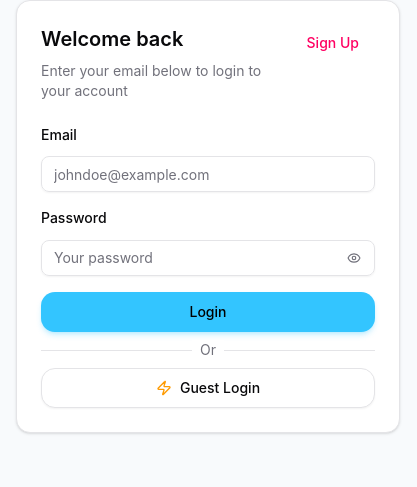
Test: LoginCard › shows validation error when auth returns an error
Type "test@example.com" into the field labelled "Email".
click(208, 174); type("test@example.com")  # box top-left (41, 156), bottom-right (375, 192)
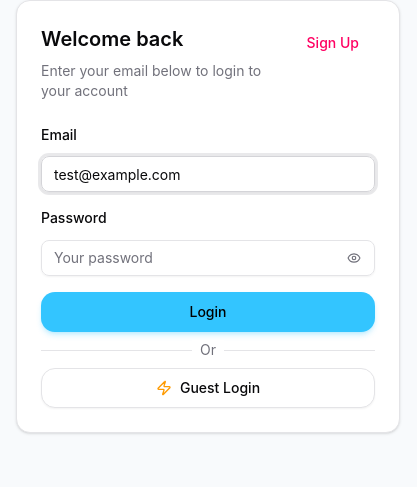
Type "password123" into the password field labelled "Password".
click(191, 258); type("password123")  # box top-left (42, 240), bottom-right (339, 276)
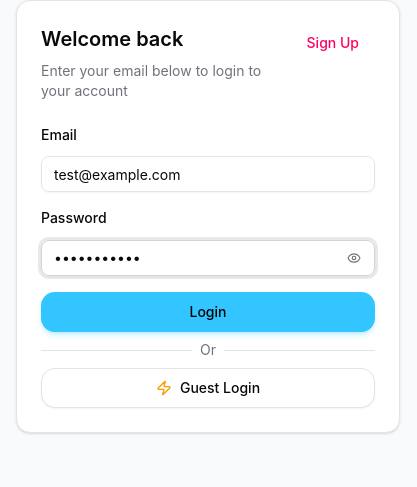
Click the button "Login".
click(208, 312)  # box top-left (41, 292), bottom-right (375, 332)
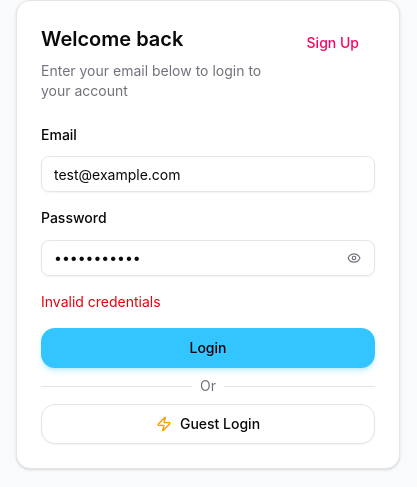
Check: the text "Invalid credentials" is shown, box top-left (41, 292), bottom-right (161, 310)
